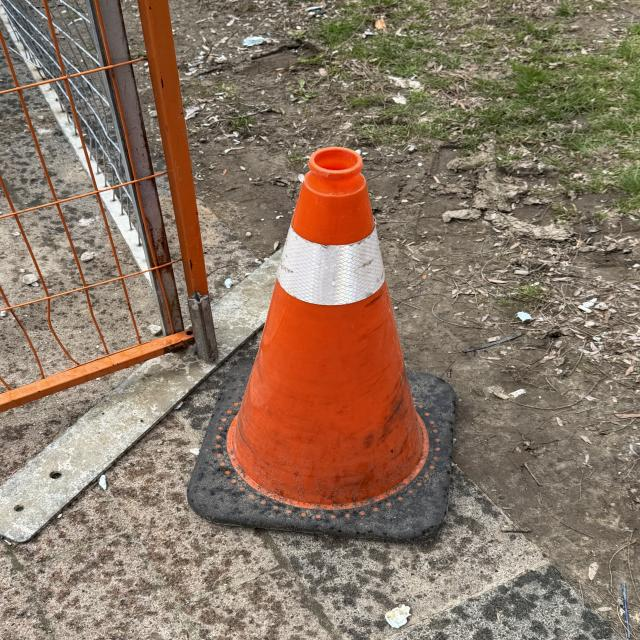Traffic Cone: (184, 147, 462, 545)
